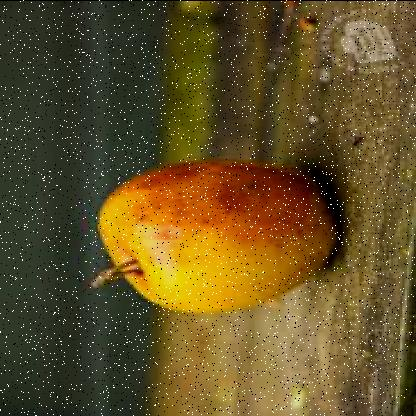damaged_apple: (93, 159, 341, 318)
